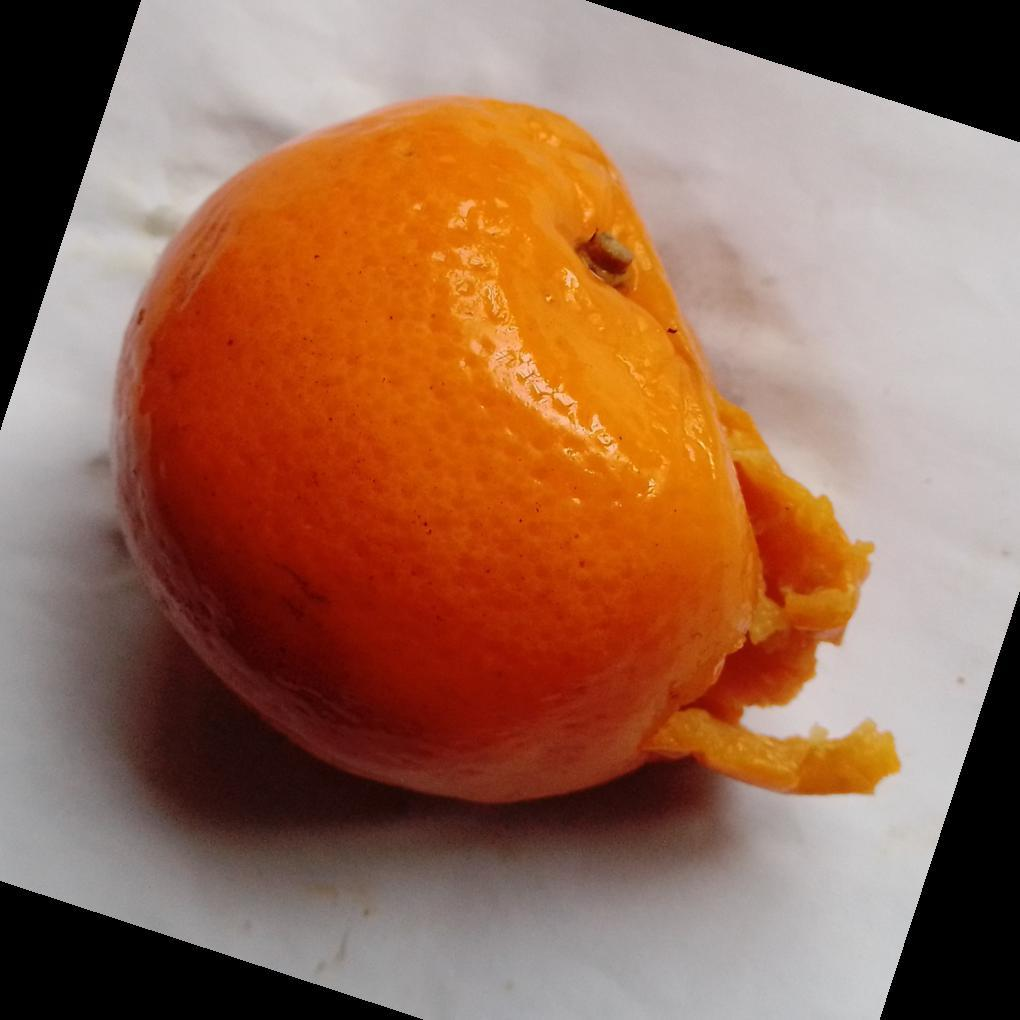FreshOrange: (108, 97, 894, 810)
